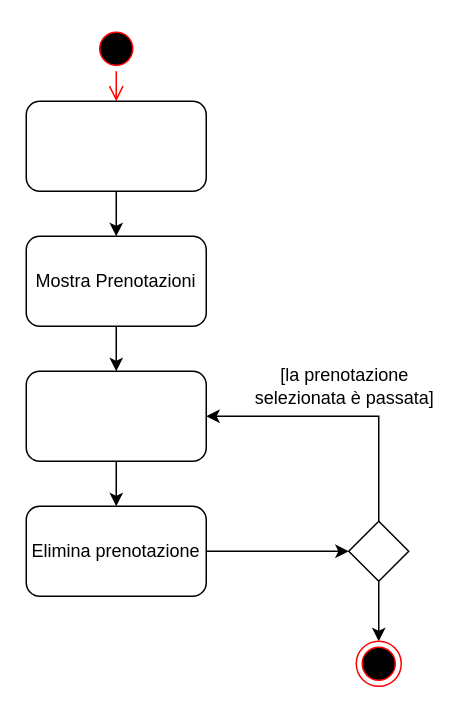
Image size: 473x713. Some labels were removed from this diagram. Each missing label, with the centre of its shape:
"Mostra Profilo Cliente" goes at point 115,145.
"Seleziona prenotazione" goes at point 115,415.
